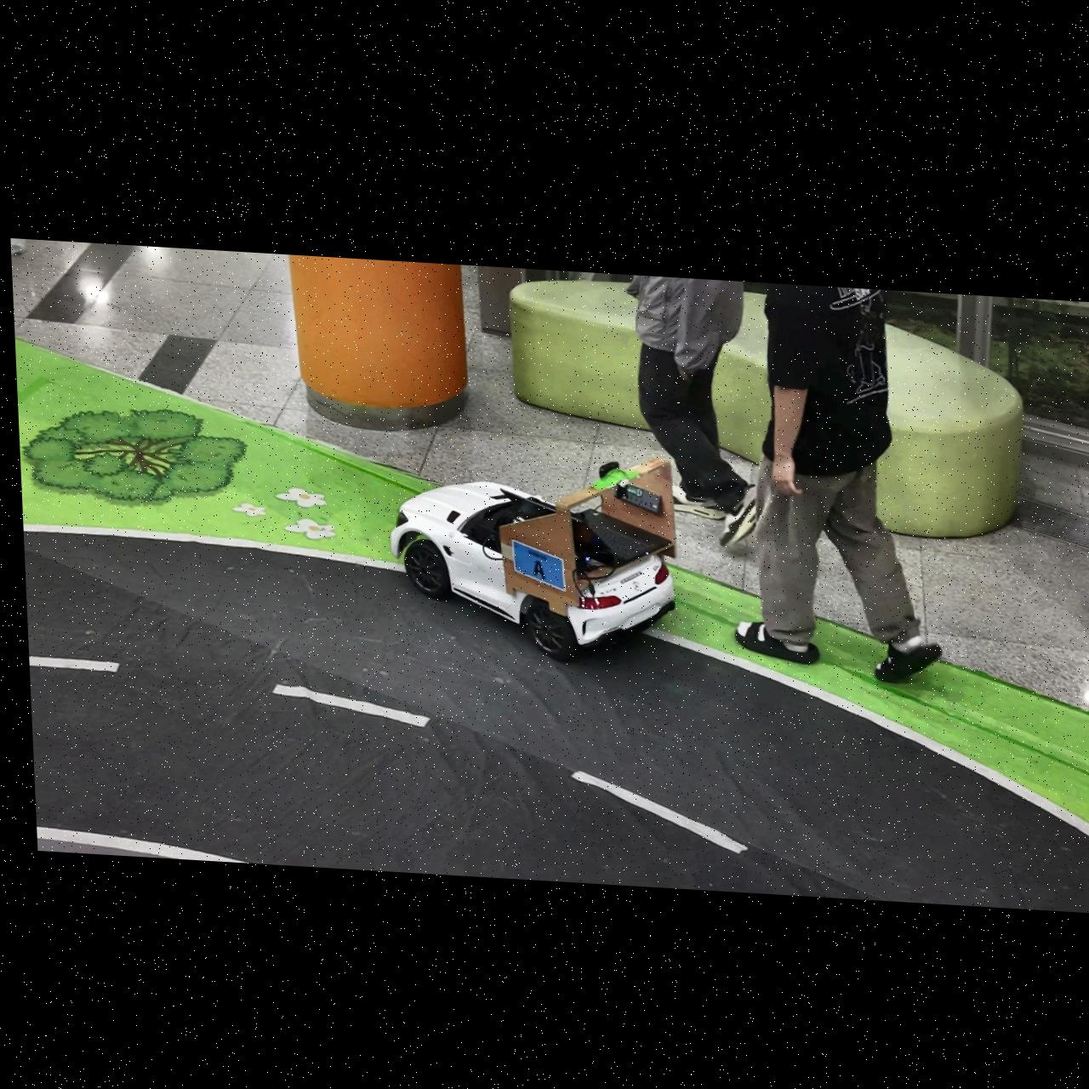broken_line: (572, 772, 747, 853), (273, 684, 430, 727), (29, 656, 118, 672)
